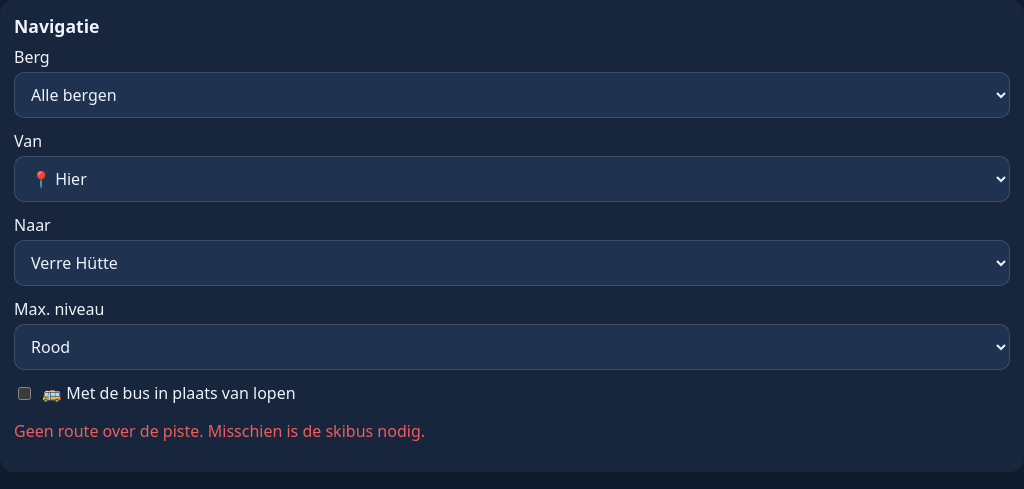
NavPanel › bus switch › says so when not even the bus gets you there
This screenshot has width=1024, height=489.
Click the checkbox labelled "🚌 Met de bus in plaats van lopen": [24, 393] box [18,386,31,400]
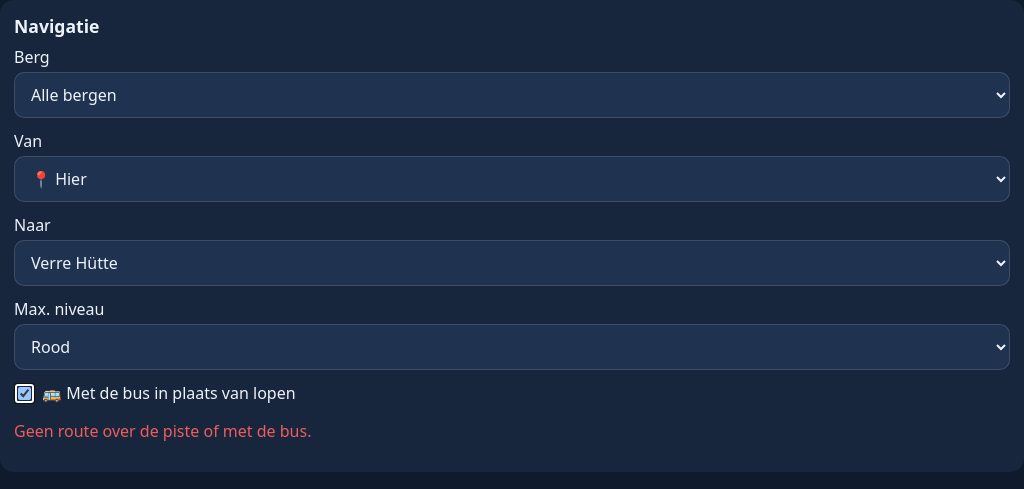
expect the text "Geen route over de piste of met de bus." is shown: met, box [14,420,311,442]
